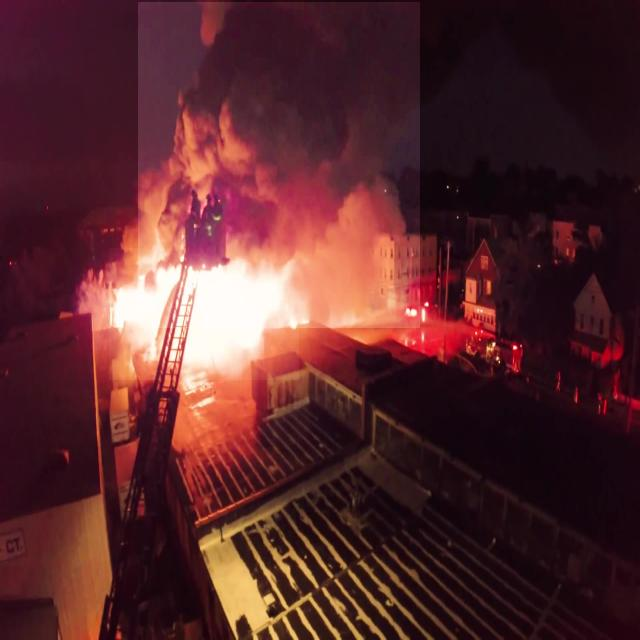Fire: (109, 248, 299, 380)
Smoke: (138, 2, 420, 328)
